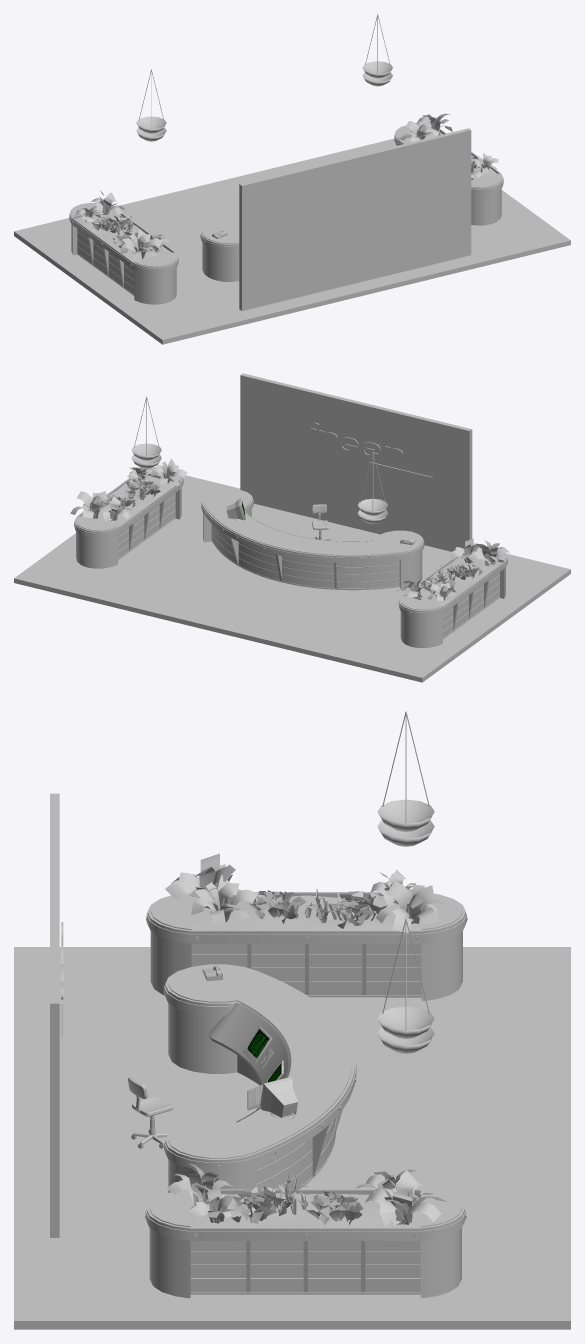
The model's file is Desk setup.fbx.
The picture shows the model from 3 angles, top to bottom: view 1: azimuth 30°, elevation 25°; view 2: azimuth 150°, elevation 25°; view 3: azimuth 270°, elevation 25°; orthographic projection. The views are drawn at different scales.
Parts seen in each view (by area): view 1: Box366, Box367, EA_Planter_001, EA_Recep_Desk, EA_Planter_002, EA_Hang_Lamp_001, EA_Hang_Lamp_002, Fern_04_001, Grass_07_001, Fern_04_008; view 2: Box367, Box366, EA_Recep_Desk, EA_Planter_001, EA_Planter_002, Ingen Sign, Box368, EA_Hang_Lamp_001, EA_Hang_Lamp_002, Fern_04_005, Fern_04_001, Fern_04_007 (+1 smaller); view 3: Box367, EA_Recep_Desk, EA_Planter_002, EA_Planter_001, Box366, EA_Hang_Lamp_002, EA_Hang_Lamp_001, Fern_04_005, Fern_04_003, Fern_04_004, Fern_04_001, Grass_07_003 (+7 smaller).
Part boxes in pixels (x1=…): Box366: x1=239, y1=128, x2=471, y2=310; Box367: x1=14, y1=138, x2=570, y2=344; EA_Planter_001: x1=69, y1=203, x2=178, y2=304; EA_Recep_Desk: x1=200, y1=198, x2=239, y2=281; EA_Planter_002: x1=394, y1=124, x2=503, y2=225; EA_Hang_Lamp_001: x1=136, y1=69, x2=166, y2=141; EA_Hang_Lamp_002: x1=362, y1=14, x2=392, y2=86; Fern_04_001: x1=120, y1=229, x2=162, y2=261; Grass_07_001: x1=91, y1=215, x2=132, y2=232; Fern_04_008: x1=400, y1=120, x2=434, y2=142; Box367: x1=14, y1=475, x2=570, y2=682; Box366: x1=240, y1=373, x2=472, y2=551; EA_Recep_Desk: x1=201, y1=489, x2=424, y2=590; EA_Planter_001: x1=398, y1=546, x2=507, y2=647; EA_Planter_002: x1=74, y1=467, x2=183, y2=568; Ingen Sign: x1=305, y1=422, x2=432, y2=483; Box368: x1=303, y1=420, x2=407, y2=468; EA_Hang_Lamp_001: x1=358, y1=452, x2=387, y2=523; EA_Hang_Lamp_002: x1=131, y1=396, x2=161, y2=468; Fern_04_005: x1=70, y1=491, x2=111, y2=519; Fern_04_001: x1=467, y1=539, x2=510, y2=566; Fern_04_007: x1=150, y1=458, x2=187, y2=486; Box367: x1=14, y1=947, x2=570, y2=1329; EA_Recep_Desk: x1=164, y1=964, x2=356, y2=1192; EA_Planter_002: x1=145, y1=1189, x2=466, y2=1298; EA_Planter_001: x1=146, y1=892, x2=467, y2=1001; Box366: x1=50, y1=793, x2=59, y2=1237; EA_Hang_Lamp_002: x1=377, y1=918, x2=434, y2=1053; EA_Hang_Lamp_001: x1=377, y1=711, x2=434, y2=846; Fern_04_005: x1=365, y1=1170, x2=446, y2=1227; Fern_04_003: x1=376, y1=881, x2=445, y2=932; Fern_04_004: x1=191, y1=874, x2=257, y2=925; Fern_04_001: x1=165, y1=853, x2=241, y2=909; Grass_07_003: x1=227, y1=1186, x2=292, y2=1224.
Size of the model in its own units: 432 by 178 by 272.
